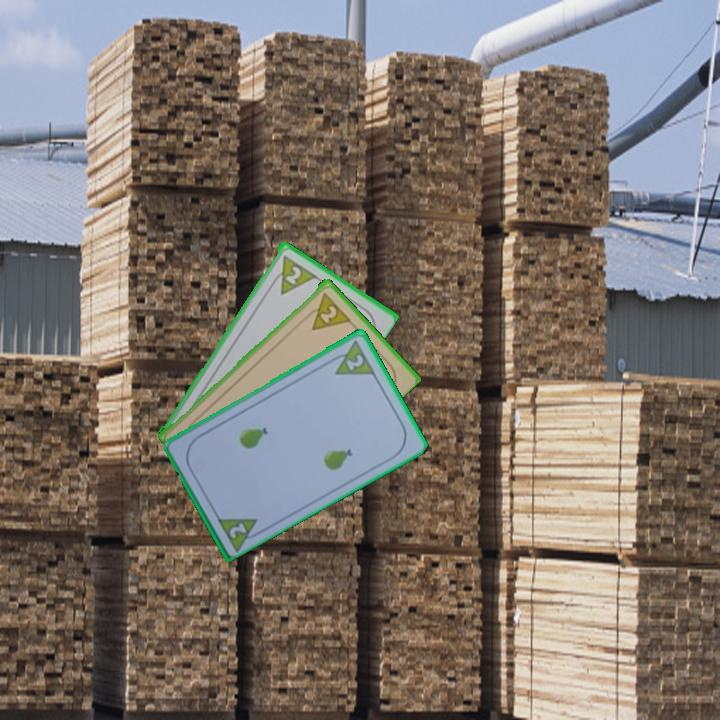2p: (266, 250, 318, 297), (301, 288, 353, 333), (342, 350, 367, 373), (226, 519, 250, 541)
